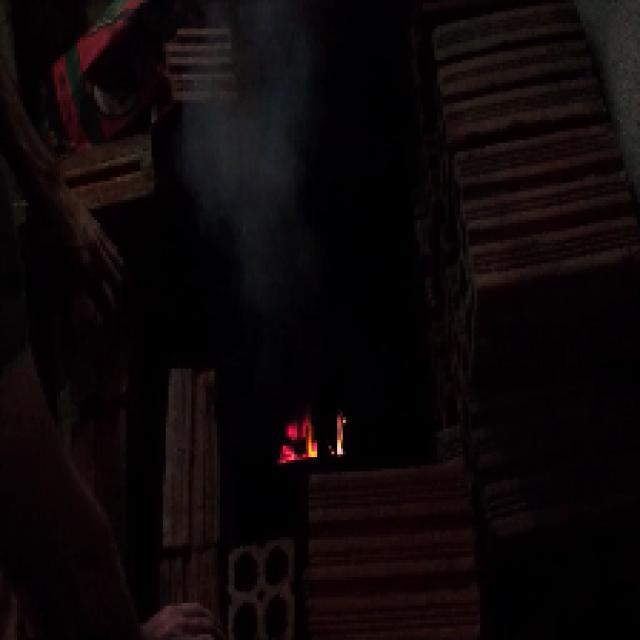Smoke: (190, 96, 294, 203)
